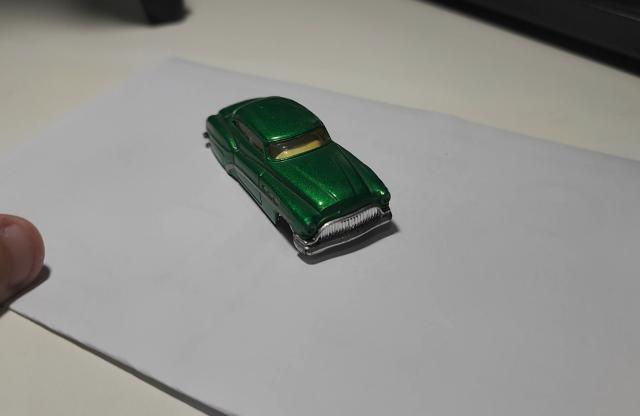06_MASERATI: (203, 96, 401, 266)
